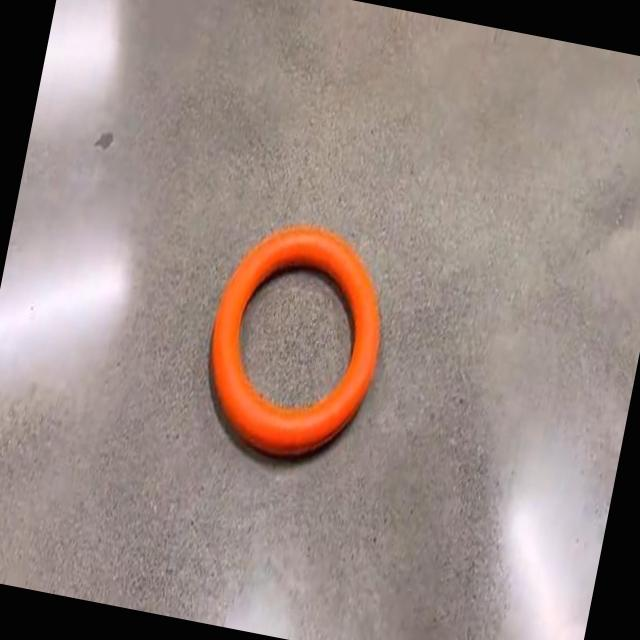note: (211, 226, 380, 455)
